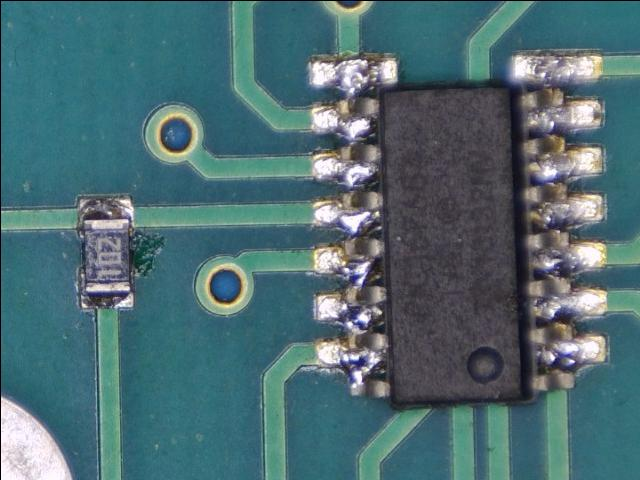Incorrect_installation: (311, 51, 608, 410)
Short_circuit: (513, 50, 608, 391), (310, 57, 399, 398)
